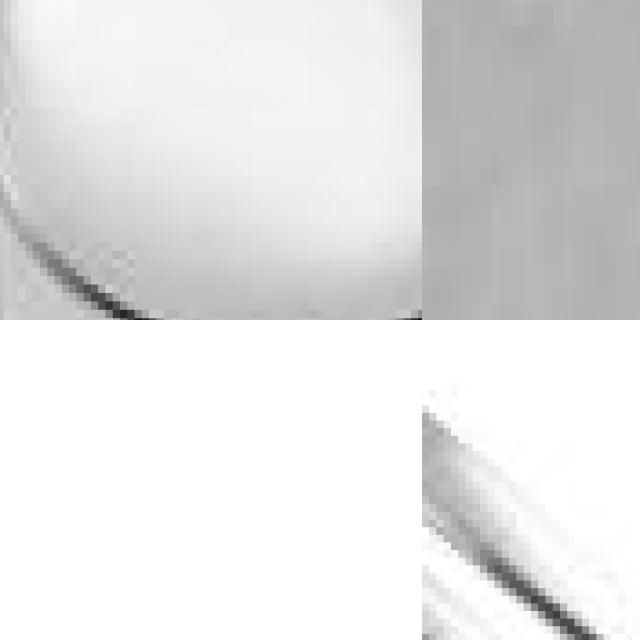forks: (422, 320, 640, 640)
spoons: (0, 0, 422, 320)
